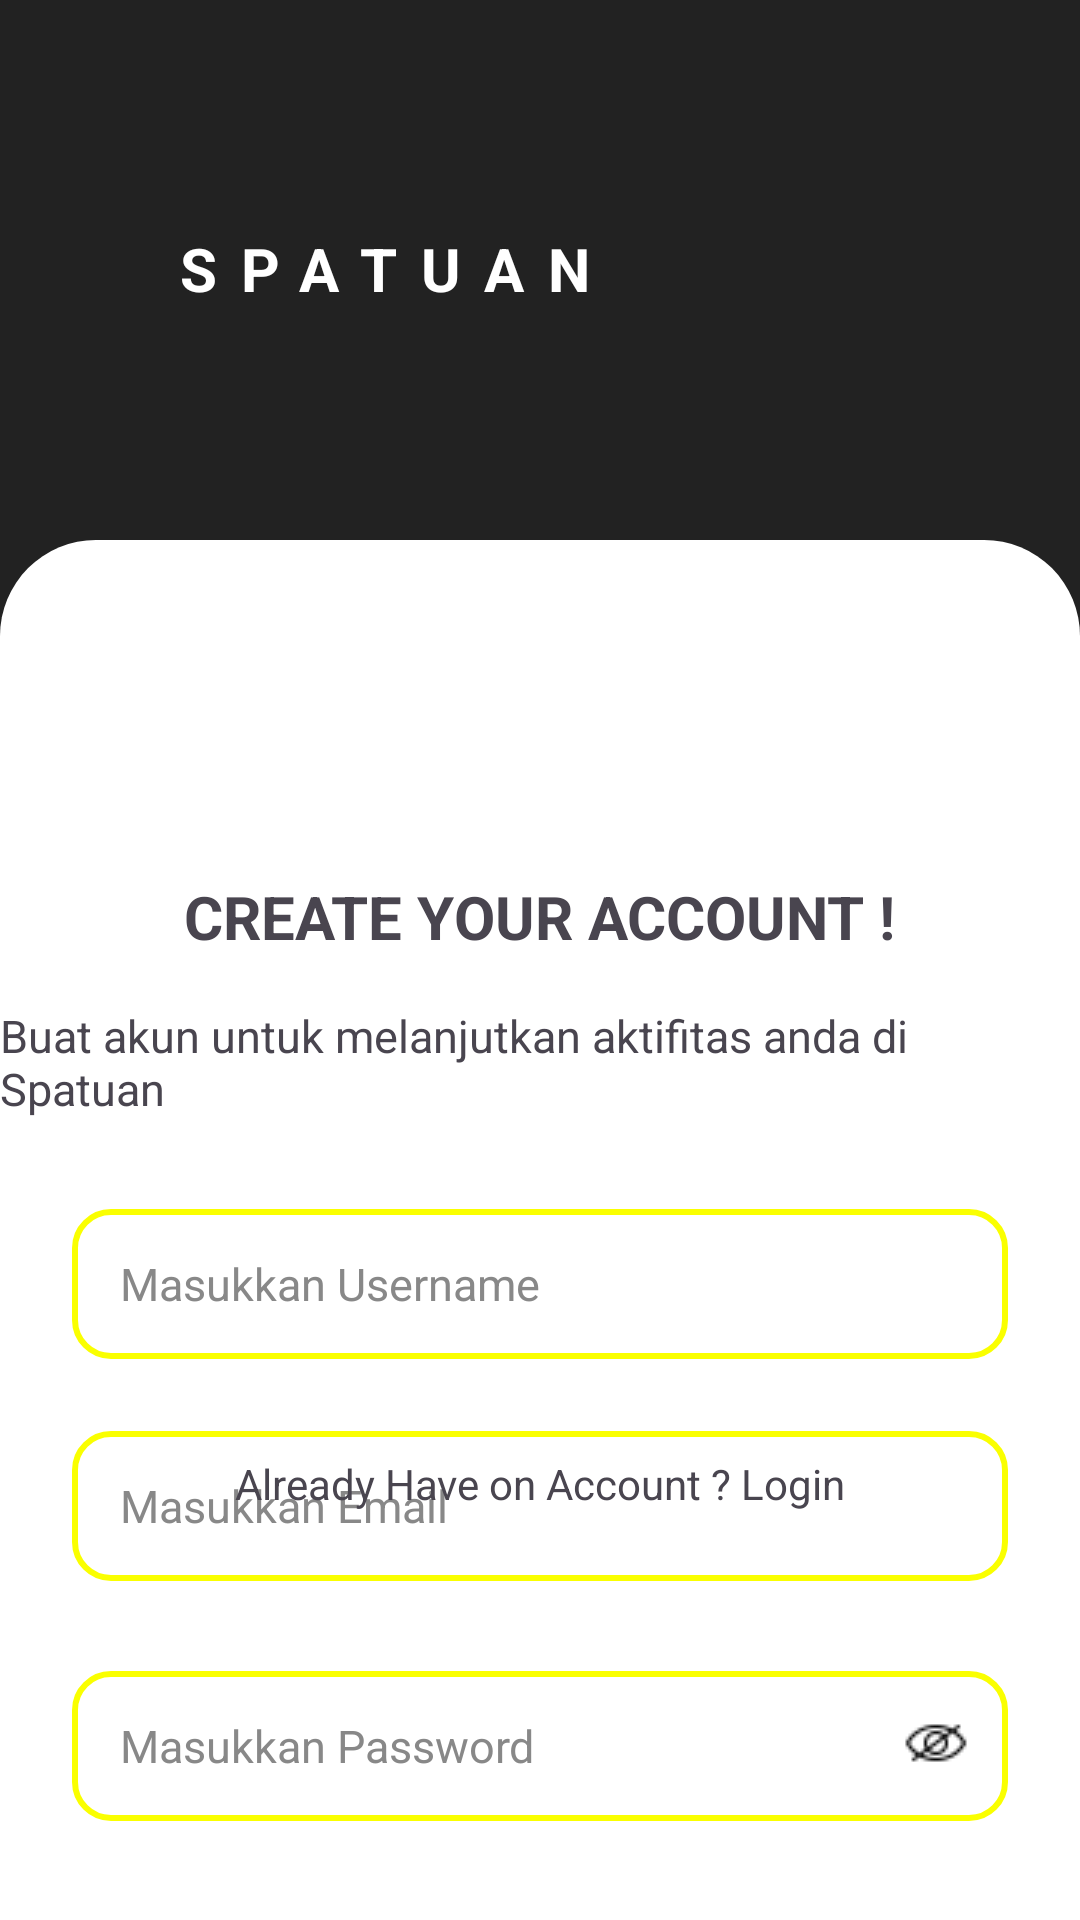

Icons on this 1080*1920 Android screen, each with its box as (x1, y1, x2, y2):
eye closed: (905, 1724, 967, 1762)
